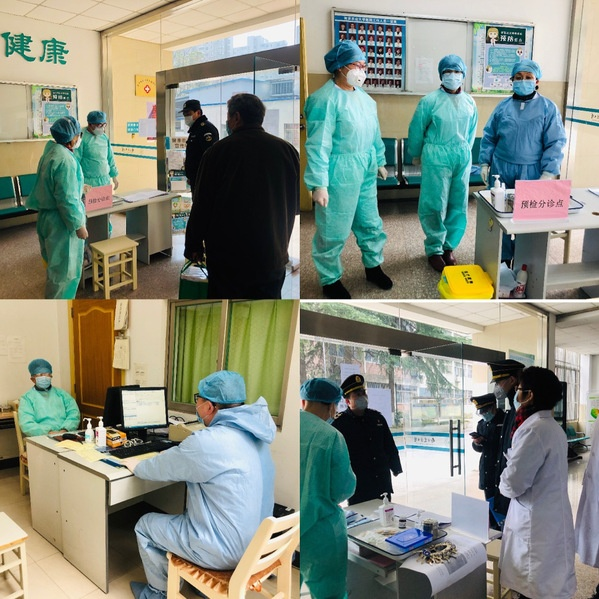correctlyWear: (335, 55, 367, 88), (511, 72, 540, 98), (439, 66, 466, 92), (224, 103, 246, 134), (513, 380, 534, 412), (195, 396, 216, 427), (491, 375, 517, 400), (345, 388, 369, 413), (321, 395, 339, 425), (31, 369, 56, 389), (180, 105, 202, 125), (474, 405, 497, 422), (90, 119, 107, 136), (67, 131, 81, 150)
